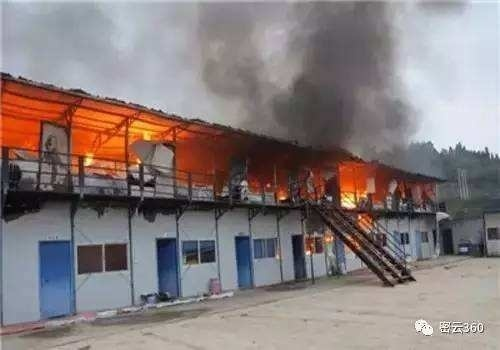fire: (337, 161, 372, 209)
